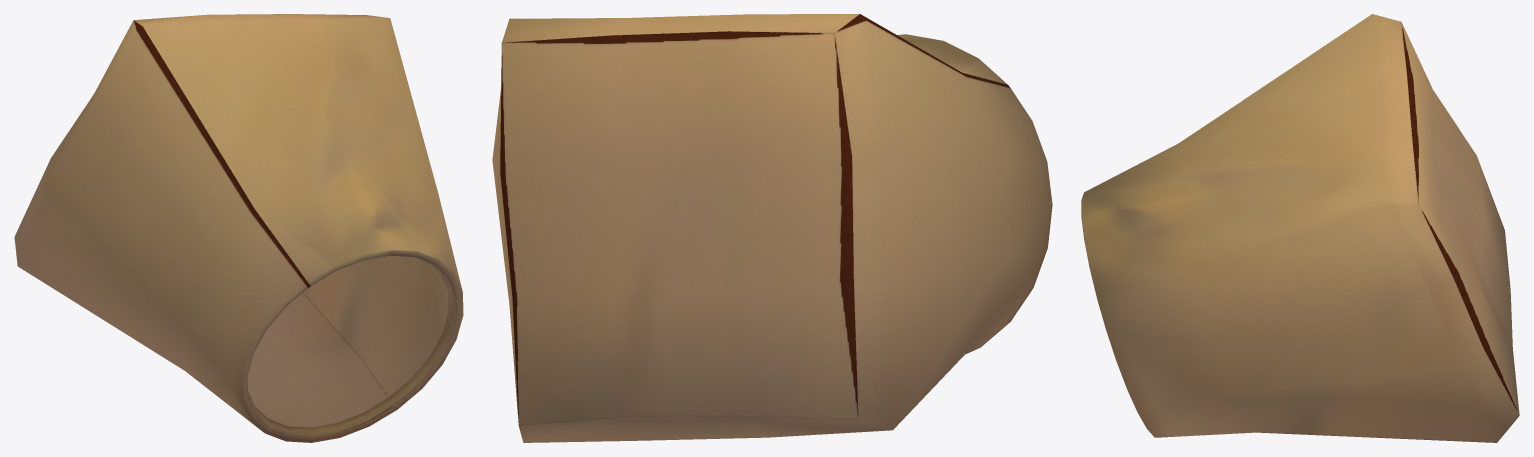
File: Sky Lantern_achivement.glb
3 views of the same model, side by side, from view 1: azimuth 30°, elevation 25°; view 2: azimuth 150°, elevation 25°; view 3: azimuth 270°, elevation 25° (orthographic). The views are drawn at different scales.
Parts seen in each view (by area): view 1: Latern 1.001; view 2: Latern 1.001; view 3: Latern 1.001.
Part boxes in pixels (x1,y1,x2,y2): Latern 1.001: (14,14,463,442); Latern 1.001: (492,14,1052,442); Latern 1.001: (1081,14,1519,442).
Size of the model in its own units: 0.5318 by 0.5525 by 0.5967.
Materials: 1 (1 with a texture image).
